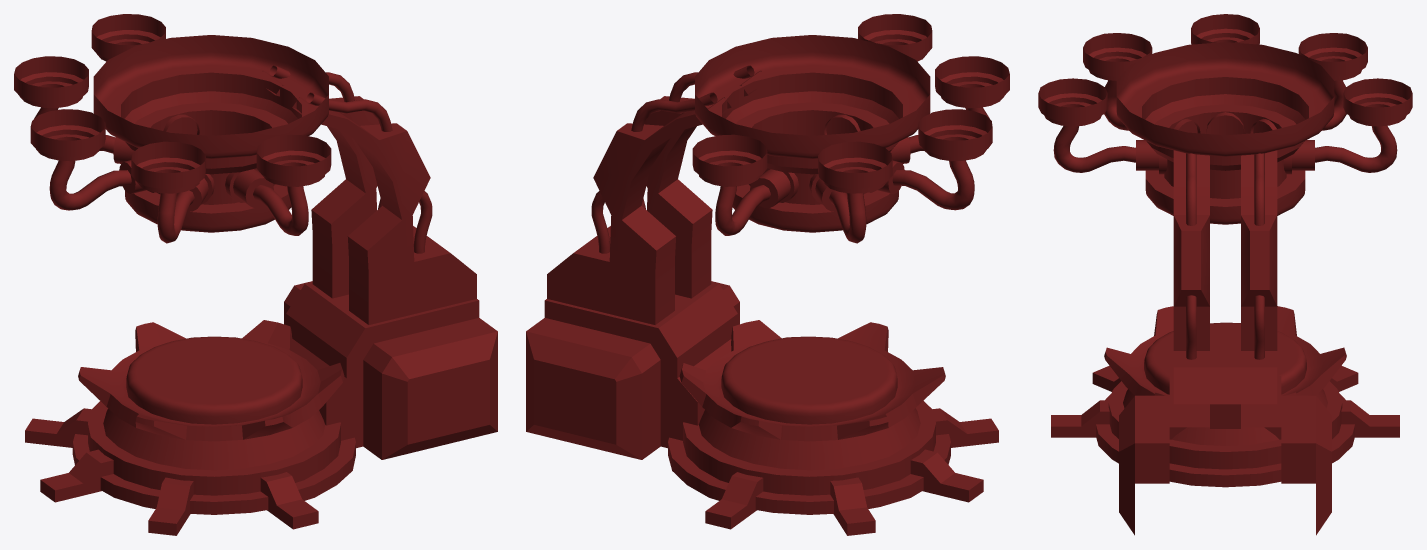
Rendered from M_Teleporter.FBX.
The picture shows the model from 3 angles, left to right: view 1: azimuth 30°, elevation 25°; view 2: azimuth 150°, elevation 25°; view 3: azimuth 270°, elevation 25°; orthographic projection. The views are drawn at different scales.
Visible parts, largest first — view 1: Teleporter; view 2: Teleporter; view 3: Teleporter.
Boxes of the visible parts, box(x1,y1,x2,y2) form: Teleporter: box(14, 14, 497, 535); Teleporter: box(526, 14, 1009, 535); Teleporter: box(1038, 14, 1412, 535).
Bounding box in the file's own units: 161 × 138 × 137.
